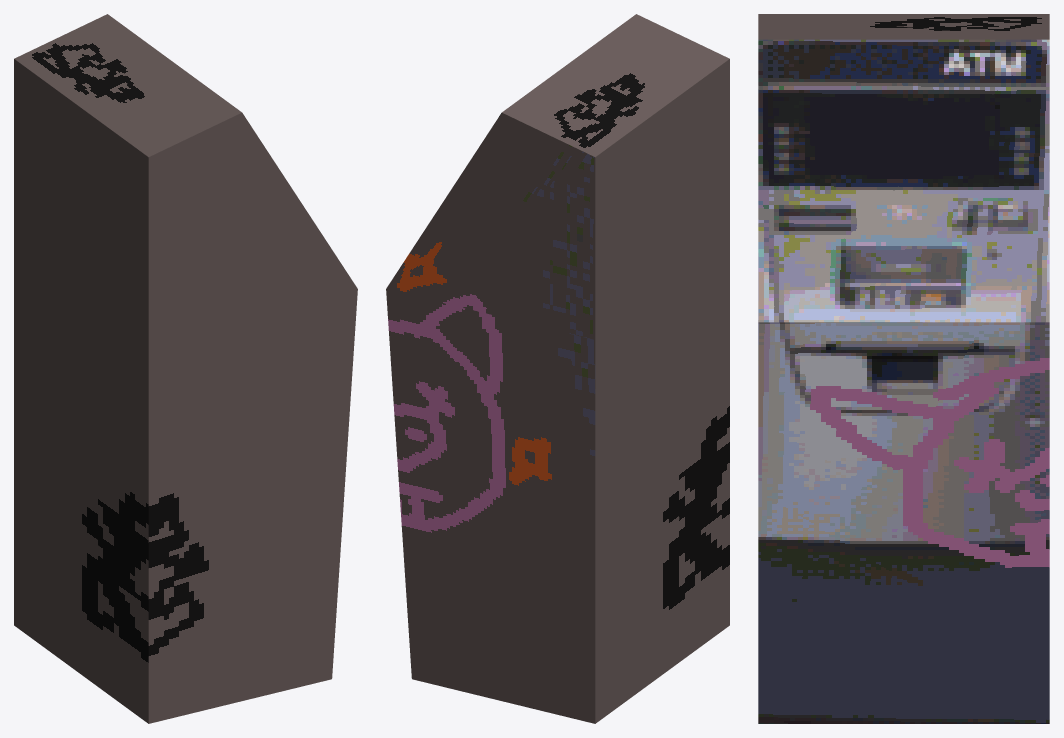
The model's file is atm_graf.glb.
3 views of the same model, side by side, from view 1: azimuth 30°, elevation 25°; view 2: azimuth 150°, elevation 25°; view 3: azimuth 270°, elevation 25° (orthographic). The views are drawn at different scales.
Visible parts, largest first — view 1: Cube; view 2: Cube; view 3: Cube.
Boxes of the visible parts, x1,y1,x2,y2 form: Cube: (14,14,357,723); Cube: (386,14,729,723); Cube: (758,14,1049,723).
Bounding box in the file's own units: 0.5929 × 1.59 × 0.6606.
Materials: 1 (1 with a texture image).
